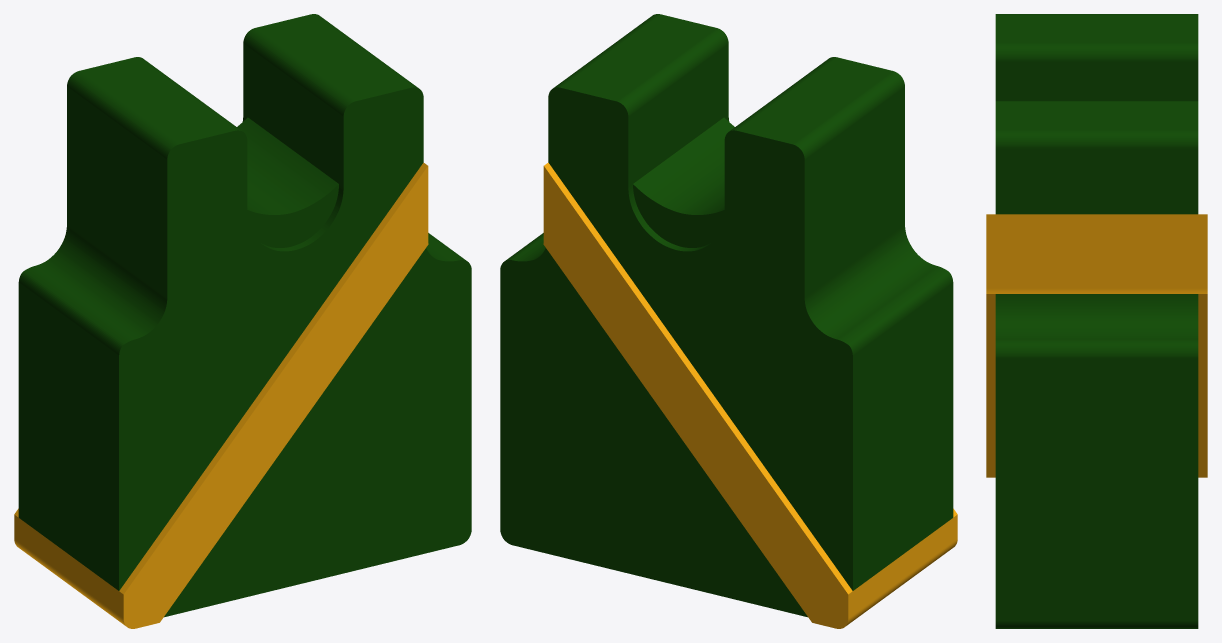
The picture shows the model from 3 angles, left to right: view 1: azimuth 30°, elevation 25°; view 2: azimuth 150°, elevation 25°; view 3: azimuth 270°, elevation 25°; orthographic projection.
Visible parts, largest first — view 1: U+1F3BD_layer01_obj00, U+1F3BD_layer02_obj00, U+1F3BD_layer00_obj00; view 2: U+1F3BD_layer01_obj00, U+1F3BD_layer02_obj00, U+1F3BD_layer00_obj00; view 3: U+1F3BD_layer01_obj00, U+1F3BD_layer02_obj00.
Boxes of the visible parts, bbox=[...] form: U+1F3BD_layer01_obj00: bbox=[18, 14, 471, 617]; U+1F3BD_layer02_obj00: bbox=[14, 162, 428, 628]; U+1F3BD_layer00_obj00: bbox=[237, 117, 338, 247]; U+1F3BD_layer01_obj00: bbox=[500, 14, 953, 617]; U+1F3BD_layer02_obj00: bbox=[543, 162, 957, 628]; U+1F3BD_layer00_obj00: bbox=[633, 117, 734, 247]; U+1F3BD_layer01_obj00: bbox=[995, 14, 1198, 628]; U+1F3BD_layer02_obj00: bbox=[986, 214, 1207, 477].
Bounding box in the file's own units: 0.4465 × 0.5677 × 0.24.
